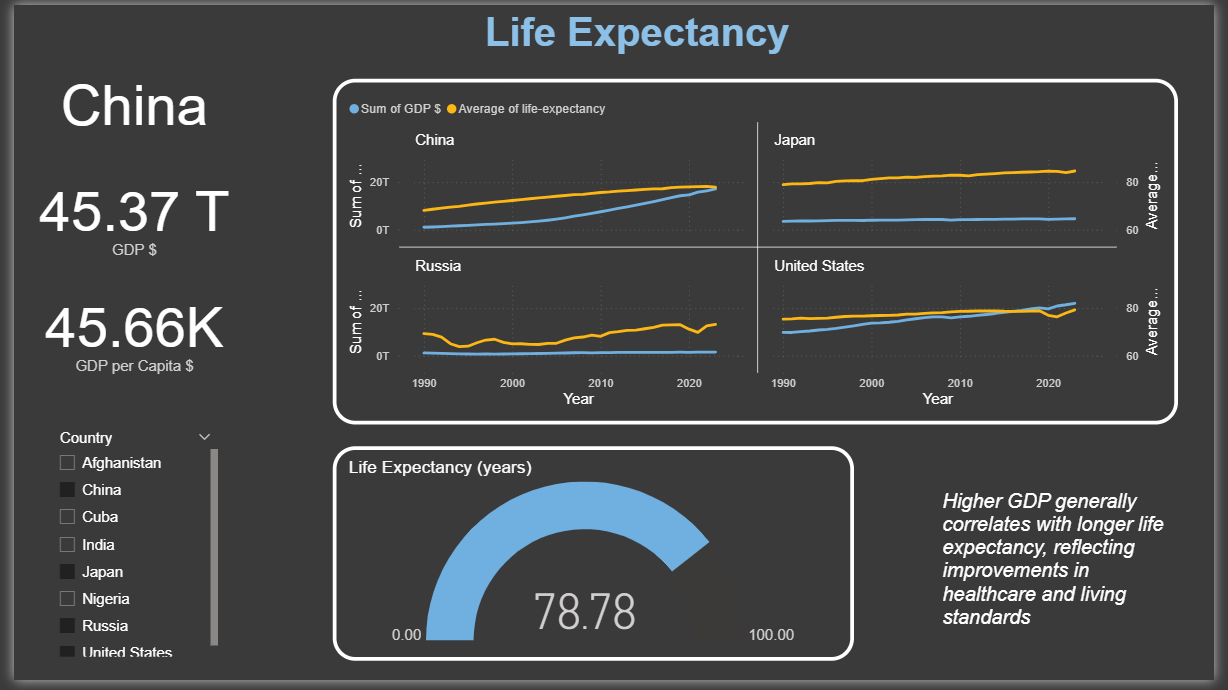

The dashboard page shown, as its layout file describes it:
{"tool":"powerbi","page":{"name":"Life Expectancy","canvas":[1280,720],"ordinal":1},"visuals":[{"type":"lineChart","fields":{"Category":["gdp-per-capita.Year"],"Y2":["Avg(gdp-per-capita.life-expectancy)"],"Rows":["gdp-per-capita.Country"],"Y":["Sum(gdp-per-capita.GDP $)"]},"box":[340.3,78.2,901.5,369.1],"z":0},{"type":"slicer","fields":{"Values":["gdp-per-capita.Country"]},"box":[36.2,447.5,186.2,252.5],"z":1000},{"type":"gauge","fields":{"Y":["co-emissions-per-capita.Life Expectancy (years)"]},"box":[340.3,470.7,555.7,229.2],"z":2000},{"type":"card","fields":{"Values":["co-emissions-per-capita.Formatted GDP This Year"]},"box":[9.6,168.8,238.8,109.8],"z":3000},{"type":"card","fields":{"Values":["co-emissions-per-capita.Latest GDP per Capita"]},"box":[9.6,296.4,238.8,104.3],"z":4000},{"type":"card","fields":{"Values":["Min(gdp-per-capita.Country)"]},"box":[9.6,48,238.8,108.4],"z":5000},{"type":"textbox","box":[985.3,511.8,256.6,175.6],"z":6000},{"type":"textbox","box":[308.7,0,710.8,60.4],"z":7000}]}

Visuals, with their boxes in screenshot pixels (x1, y1, x2, y2), scaled from the page's 1280x720 canvas onto the 1228x690 screenshot:
lineChart - gdp-per-capita.Year x Avg(gdp-per-capita.life-expectancy): 326,75,1191,429
slicer - gdp-per-capita.Country: 35,429,213,671
gauge - co-emissions-per-capita.Life Expectancy (years): 326,451,860,671
card - co-emissions-per-capita.Formatted GDP This Year: 9,162,238,267
card - co-emissions-per-capita.Latest GDP per Capita: 9,284,238,384
card - Min(gdp-per-capita.Country): 9,46,238,150
textbox: 945,490,1191,659
textbox: 296,0,978,58
